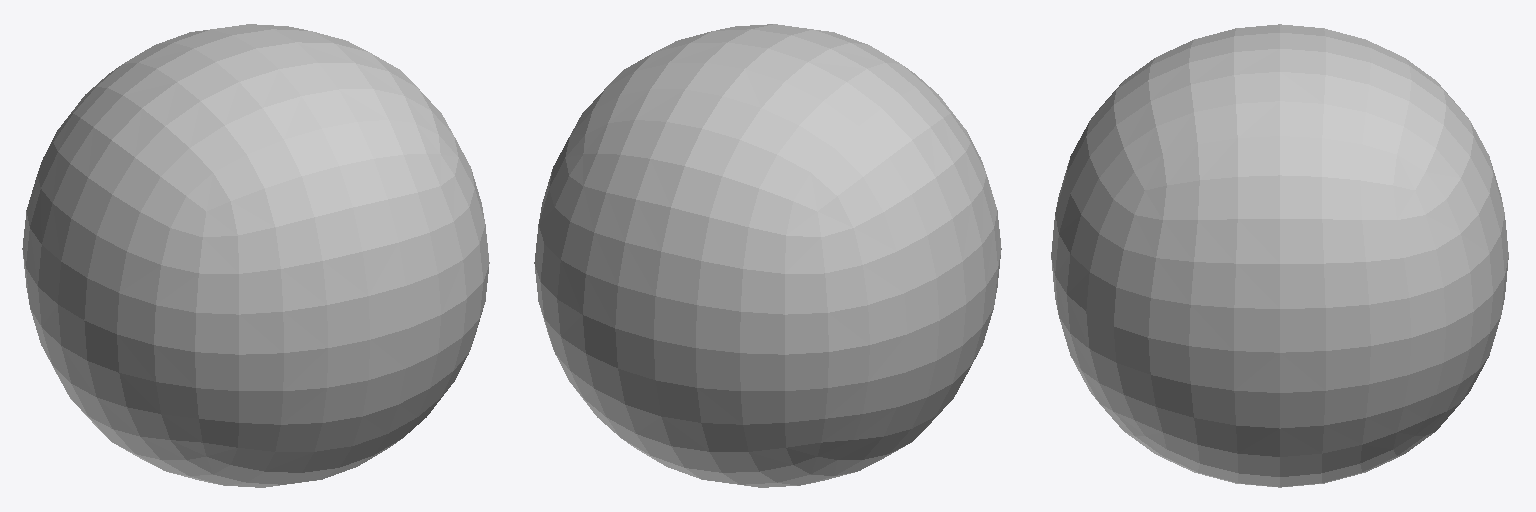
The model's file is sphereshell.obj.
The picture shows the model from 3 angles: view 1: azimuth 30°, elevation 25°; view 2: azimuth 150°, elevation 25°; view 3: azimuth 270°, elevation 25°; orthographic projection.
Parts seen in each view (by area): view 1: Cube; view 2: Cube; view 3: Cube.
Part boxes in pixels (x1,y1,x2,y2): Cube: (22, 24, 489, 487); Cube: (534, 24, 1001, 487); Cube: (1051, 24, 1508, 487).
Size of the model in its own units: 13.43 by 13.43 by 13.43.